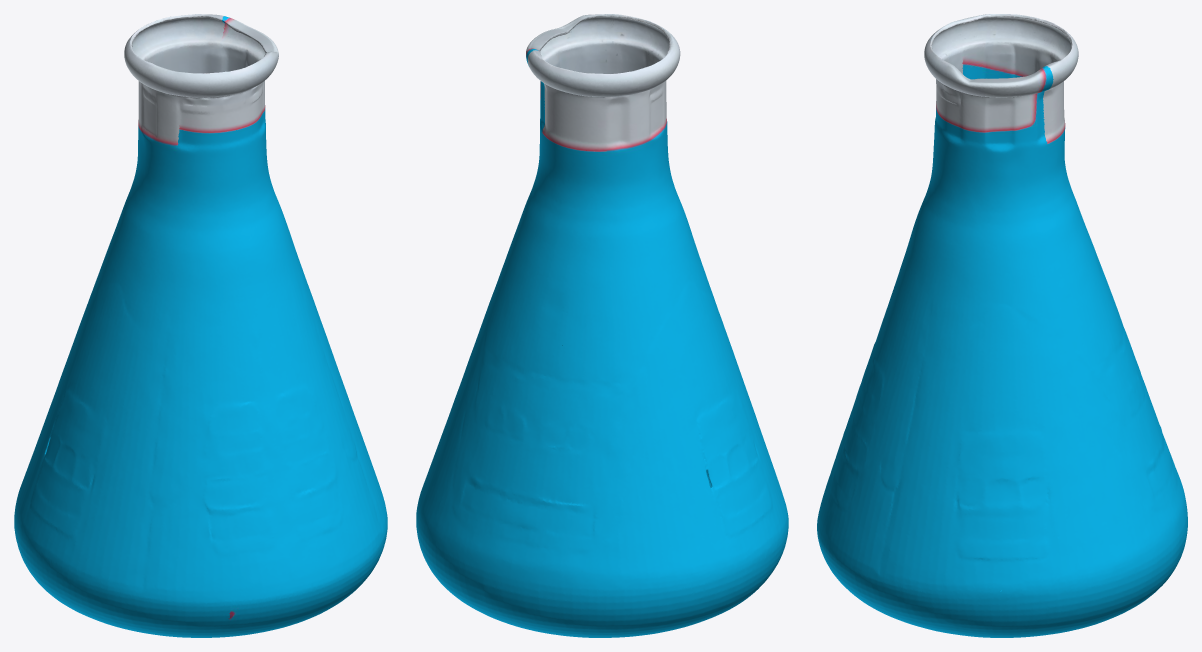
Rendered from base_beaker.glb.
The picture shows the model from 3 angles, left to right: view 1: azimuth 30°, elevation 25°; view 2: azimuth 150°, elevation 25°; view 3: azimuth 270°, elevation 25°; orthographic projection.
Visible parts, largest first — view 1: tripo_node_377c8978-a28a-4534-8f01-d845ca4c34b6; view 2: tripo_node_377c8978-a28a-4534-8f01-d845ca4c34b6; view 3: tripo_node_377c8978-a28a-4534-8f01-d845ca4c34b6.
Part boxes in pixels (left/top/right/bottom): tripo_node_377c8978-a28a-4534-8f01-d845ca4c34b6: left=14, top=14, right=387, bottom=637; tripo_node_377c8978-a28a-4534-8f01-d845ca4c34b6: left=416, top=14, right=788, bottom=637; tripo_node_377c8978-a28a-4534-8f01-d845ca4c34b6: left=817, top=14, right=1187, bottom=637.
Size of the model in its own units: 1.01 by 1.63 by 1.01.
1 material, 1 textured.
